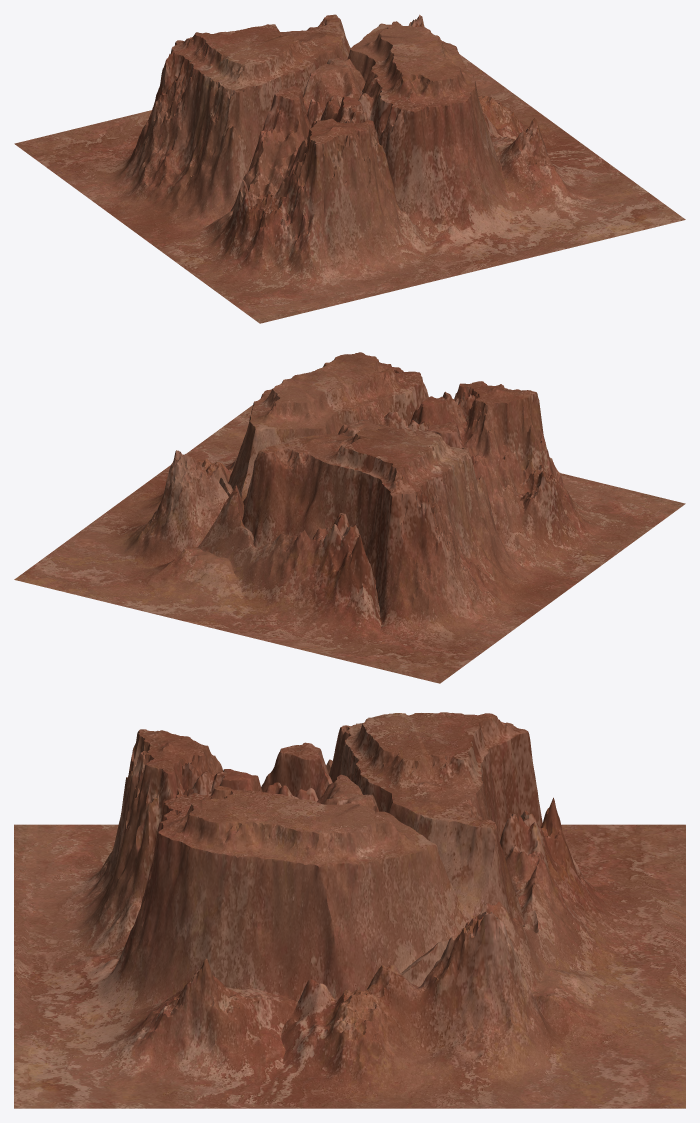
File: ap_modular_wadi_desert_rock2.gltf
3 views of the same model, one above another, from view 1: azimuth 30°, elevation 25°; view 2: azimuth 150°, elevation 25°; view 3: azimuth 270°, elevation 25° (orthographic). The views are drawn at different scales.
Parts seen in each view (by area): view 1: ap_modular_wadi_desert_rock2; view 2: ap_modular_wadi_desert_rock2; view 3: ap_modular_wadi_desert_rock2.
Part boxes in pixels (left/top/right/bottom): ap_modular_wadi_desert_rock2: left=14, top=14, right=685, bottom=323; ap_modular_wadi_desert_rock2: left=14, top=352, right=685, bottom=683; ap_modular_wadi_desert_rock2: left=14, top=712, right=685, bottom=1108.
Bounding box in the file's own units: 24.12 × 7.3 × 24.12.
1 material, 1 textured.
